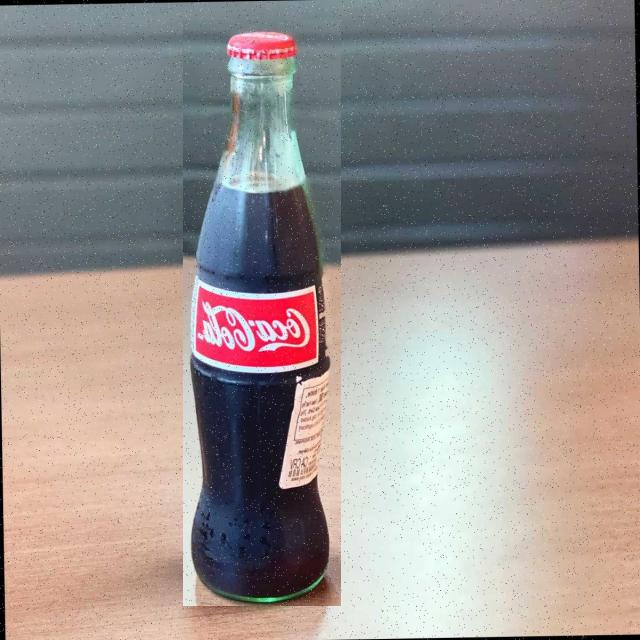coca-cola: (183, 20, 341, 606)
